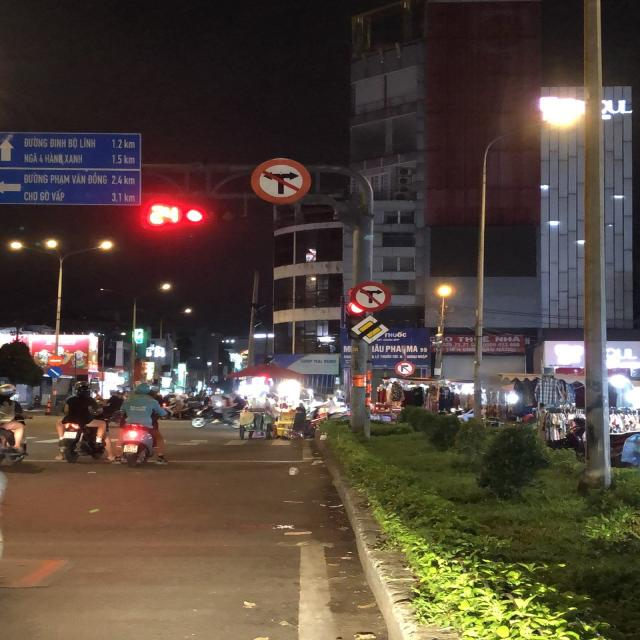Bien bao cam re phai: (393, 358, 415, 377)
